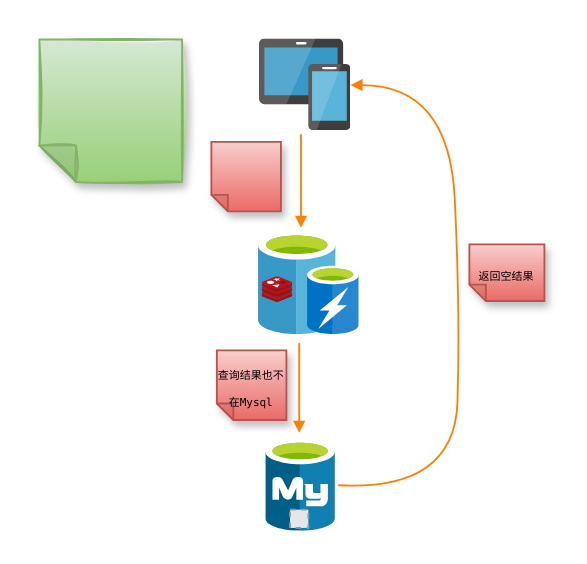
Some shapes in this 587 by 564 pixel diagram are drawn without their labels. Grey dashed boxes stand in for pictures. Each missing label, with the centre of its shape:
查询结果不在缓存中: point 247,178
缓存穿透是访问大量不存在的数据时引发的，效果就是好像缓存不存在一样，会增加Mysql的工作负荷: point 111,112
